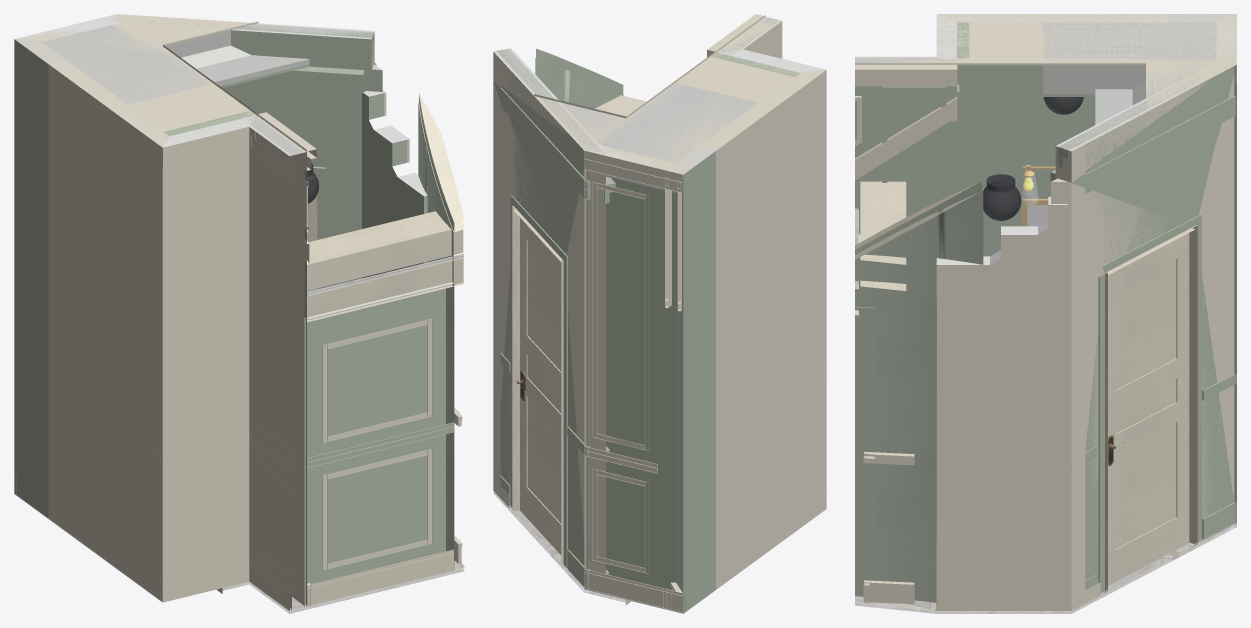
The model's file is powder-room-bc80b4f028a7.glb.
3 views of the same model, side by side, from view 1: azimuth 30°, elevation 25°; view 2: azimuth 150°, elevation 25°; view 3: azimuth 270°, elevation 25° (orthographic). The views are drawn at different scales.
Parts seen in each view (by area): view 1: powder-room-d33eebe572d154f2, powder-room-1a8091885ac212af, powder-room-ab5cb5e7d303dd66, powder-room-85f0fd939e0fcc78, powder-room-9b21989b25895c4a, powder-room-a5eabba2ad6474eb, powder-room-2575515a05775d9e, powder-room-5b07a8f5f7929ff6, powder-room-ca6eafacc0f493ac, powder-room-3d7935a3f1355396, powder-room-261aa5c5ae0f77af, powder-room-b74e3495b7e70350 (+12 smaller); view 2: powder-room-d33eebe572d154f2, powder-room-a5eabba2ad6474eb, powder-room-b2b5f93b4255576d, powder-room-9b21989b25895c4a, powder-room-539cd4ce99668665, powder-room-2575515a05775d9e, powder-room-5b07a8f5f7929ff6, powder-room-86d6fc7292b21ae1, powder-room-ae2ab6de1156d266, powder-room-48dc2409da547ff7, powder-room-b74e3495b7e70350, powder-room-f5fbb4dd3b92b4c5 (+16 smaller); view 3: powder-room-d65b0a574c2ac13c, powder-room-a5eabba2ad6474eb, powder-room-b74e3495b7e70350, powder-room-539cd4ce99668665, powder-room-2575515a05775d9e, powder-room-d33eebe572d154f2, powder-room-5b07a8f5f7929ff6, powder-room-85f0fd939e0fcc78, powder-room-ab5cb5e7d303dd66, powder-room-48dc2409da547ff7, powder-room-86d6fc7292b21ae1, powder-room-48dd1d74e06d76de (+20 smaller).
Part boxes in pixels (x1,y1,x2,y2): powder-room-d33eebe572d154f2: (48,60,167,601); powder-room-1a8091885ac212af: (163,116,255,602); powder-room-ab5cb5e7d303dd66: (306,282,454,604); powder-room-85f0fd939e0fcc78: (243,115,306,610); powder-room-9b21989b25895c4a: (14,39,64,518); powder-room-a5eabba2ad6474eb: (97,14,382,286); powder-room-2575515a05775d9e: (14,14,306,155); powder-room-5b07a8f5f7929ff6: (42,24,309,104); powder-room-ca6eafacc0f493ac: (307,211,463,290); powder-room-3d7935a3f1355396: (362,92,426,278); powder-room-261aa5c5ae0f77af: (306,257,464,322); powder-room-b74e3495b7e70350: (418,102,464,570); powder-room-d33eebe572d154f2: (710,70,826,589); powder-room-a5eabba2ad6474eb: (493,48,605,589); powder-room-b2b5f93b4255576d: (584,145,683,613); powder-room-9b21989b25895c4a: (676,147,715,613); powder-room-539cd4ce99668665: (520,218,561,554); powder-room-2575515a05775d9e: (534,15,826,174); powder-room-5b07a8f5f7929ff6: (561,82,758,163); powder-room-86d6fc7292b21ae1: (512,206,563,565); powder-room-ae2ab6de1156d266: (592,182,649,450); powder-room-48dc2409da547ff7: (510,195,567,567); powder-room-b74e3495b7e70350: (535,58,623,108); powder-room-f5fbb4dd3b92b4c5: (584,569,682,613); powder-room-d65b0a574c2ac13c: (936,204,1067,610); powder-room-a5eabba2ad6474eb: (1051,54,1234,610); powder-room-b74e3495b7e70350: (855,191,983,610); powder-room-539cd4ce99668665: (1108,233,1189,585); powder-room-2575515a05775d9e: (855,14,1236,110); powder-room-d33eebe572d154f2: (937,14,1168,256); powder-room-5b07a8f5f7929ff6: (1043,22,1216,124); powder-room-85f0fd939e0fcc78: (855,56,956,234); powder-room-ab5cb5e7d303dd66: (855,234,875,596); powder-room-48dc2409da547ff7: (1098,214,1201,594); powder-room-86d6fc7292b21ae1: (1105,225,1197,592); powder-room-48dd1d74e06d76de: (1085,96,1235,193).
Size of the model in its own units: 1.92 by 3.05 by 2.26.
Materials: 29 (6 with a texture image).
